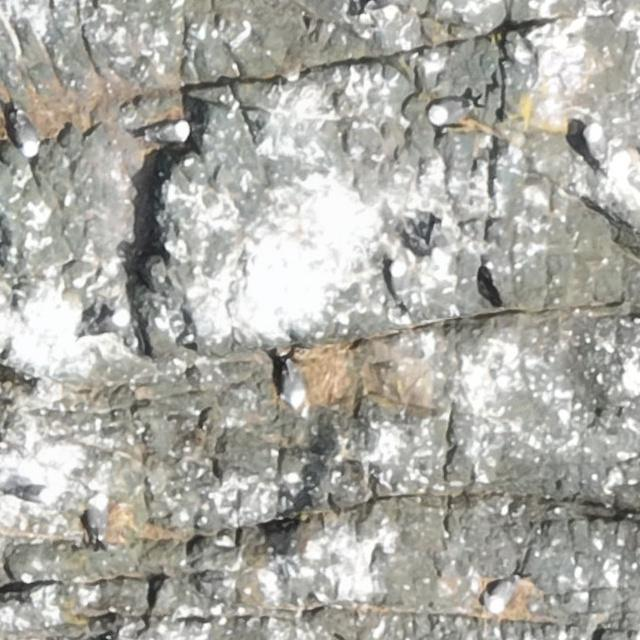umineko: (283, 356, 306, 409), (88, 308, 132, 335), (13, 481, 56, 507), (430, 99, 468, 123), (15, 117, 37, 153), (489, 580, 516, 608), (151, 122, 187, 142), (585, 125, 602, 162), (88, 502, 105, 538), (390, 262, 405, 300)
